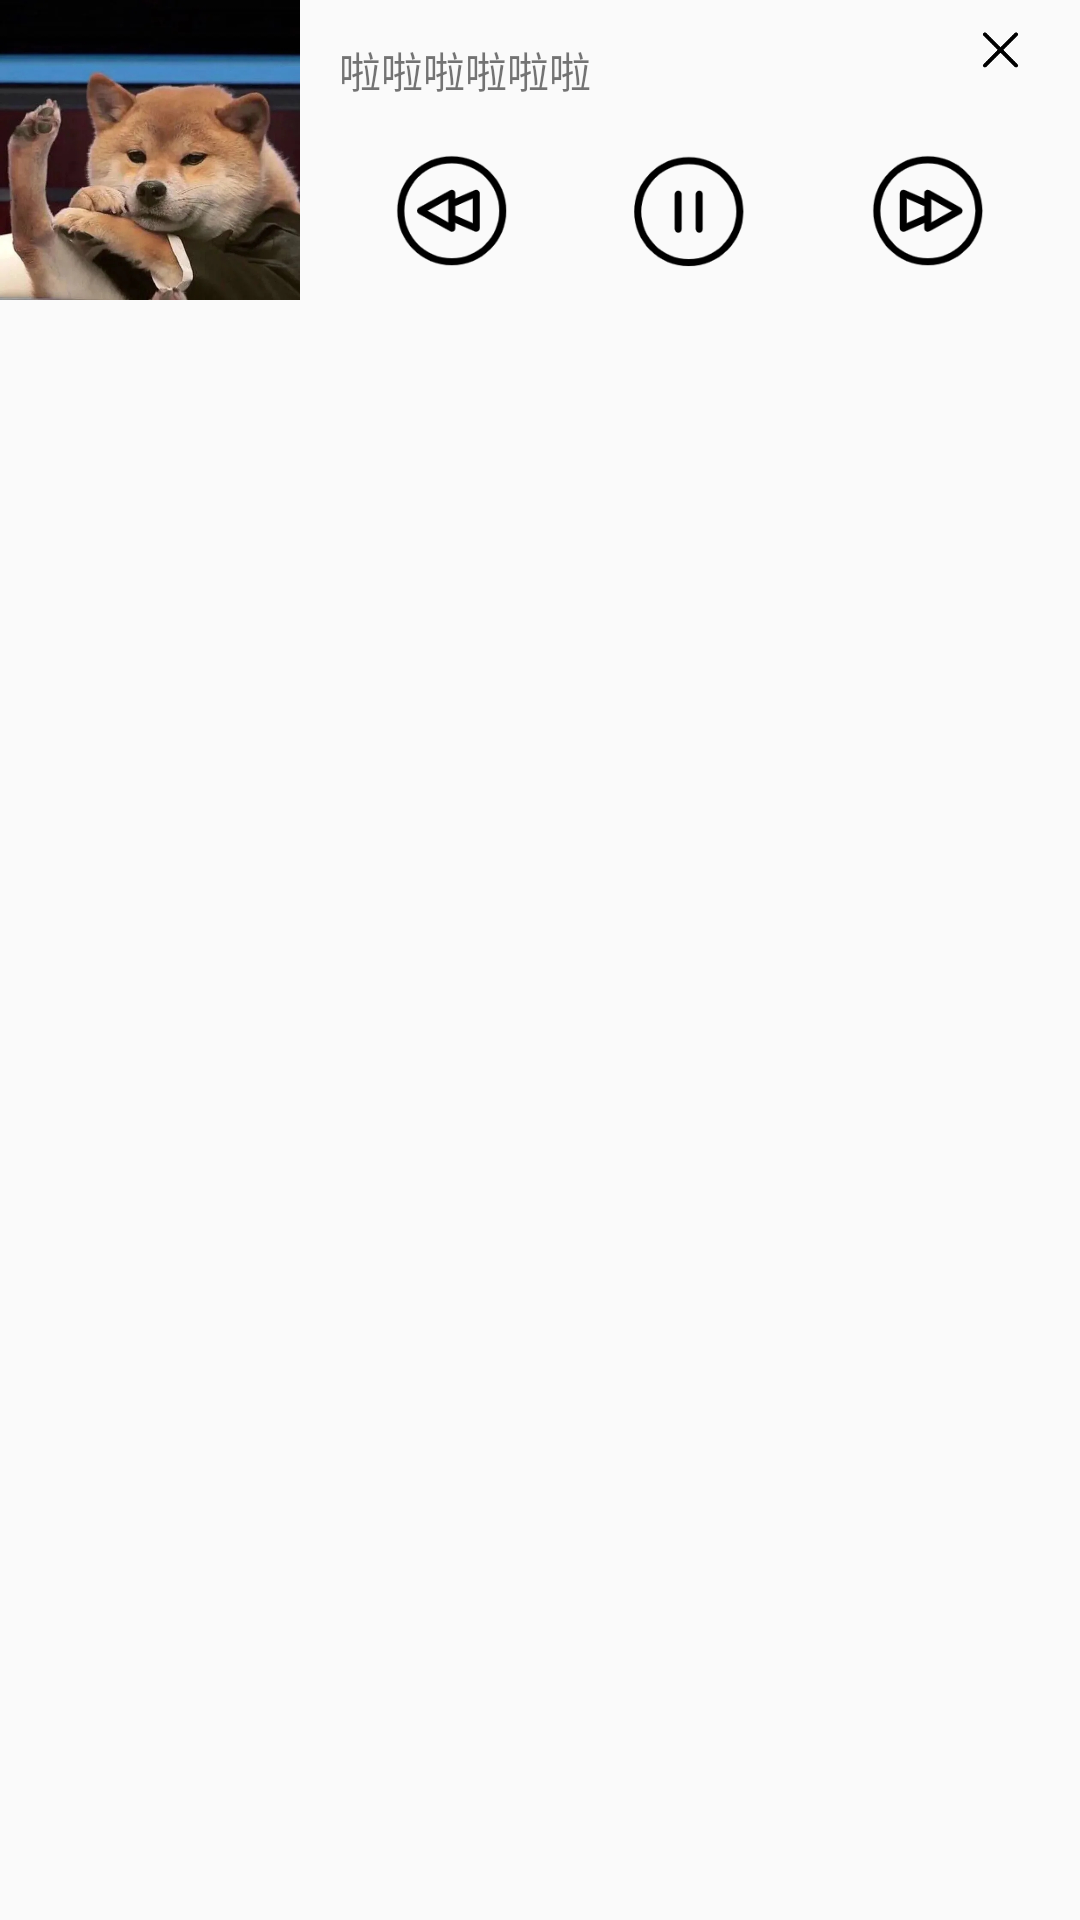

Where icons sit on this 1080w x 1920h app screen, as bbox=[x1, y1, x2, y2]:
close: bbox=[983, 32, 1018, 68]
last: bbox=[397, 156, 507, 266]
next: bbox=[873, 156, 983, 266]
playing: bbox=[634, 156, 744, 266]
